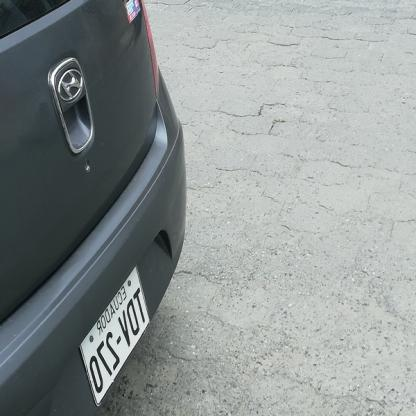Placa: (70, 250, 154, 410)
